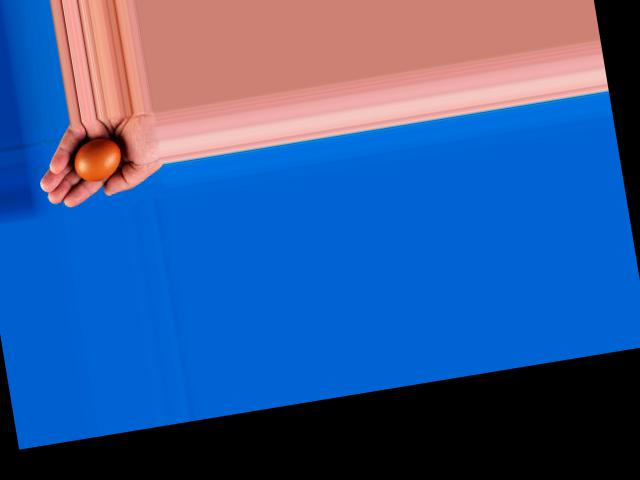egg: (69, 136, 124, 184)
